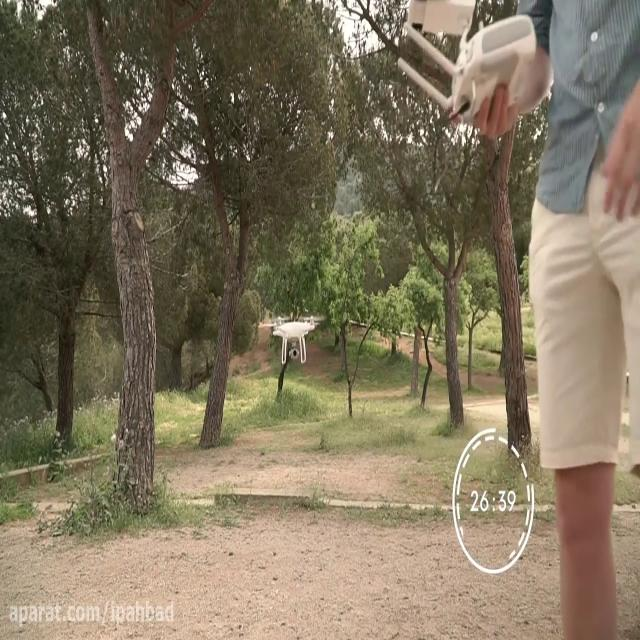drone: (264, 310, 326, 371)
